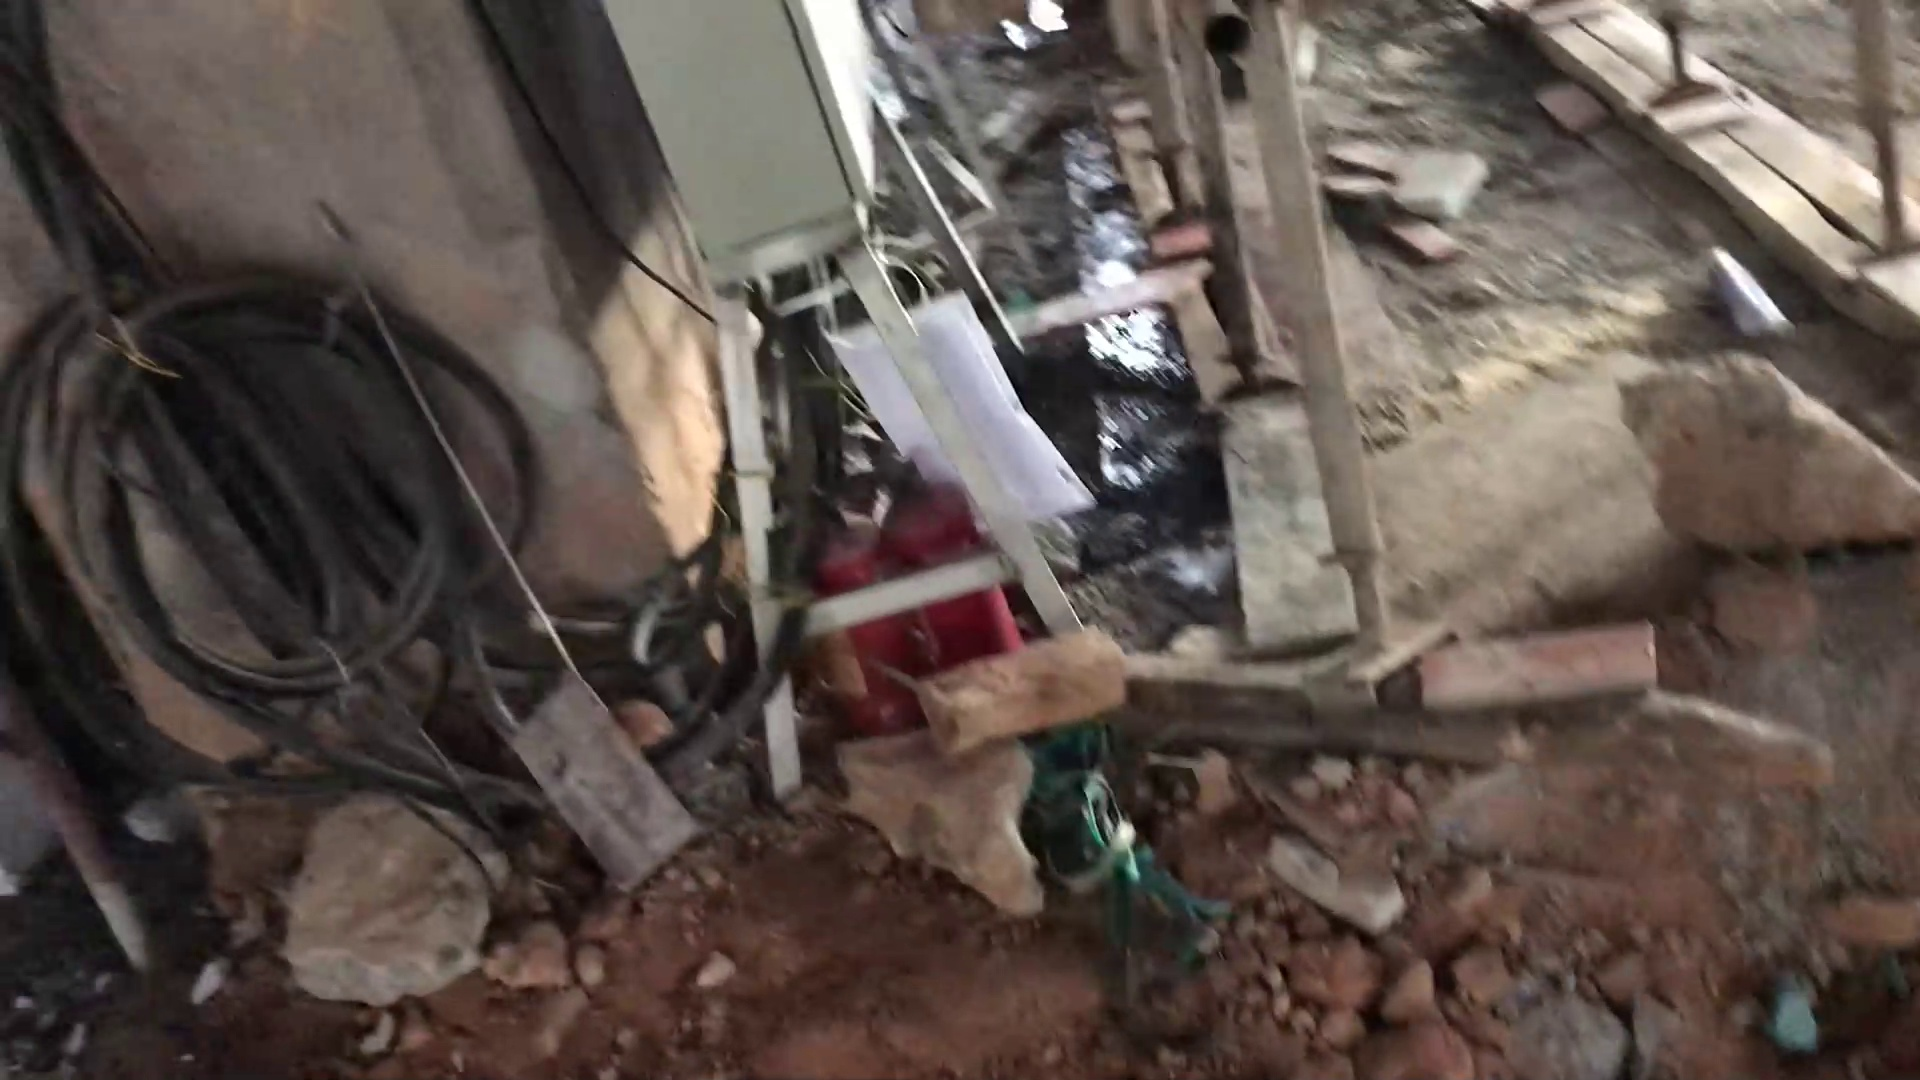ebox: (596, 1, 887, 284)
